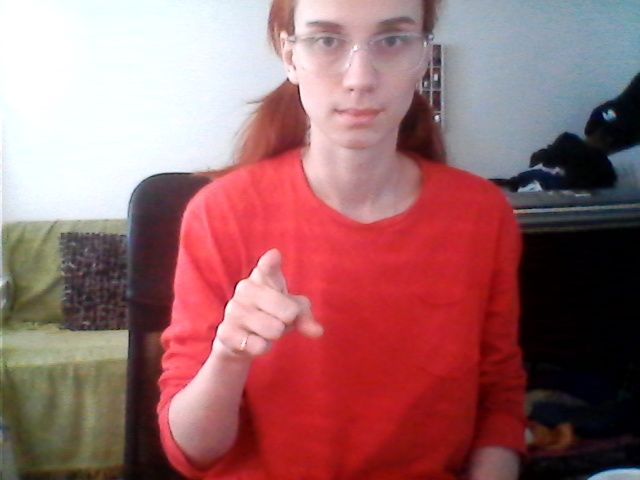ty: (187, 237, 351, 362)
